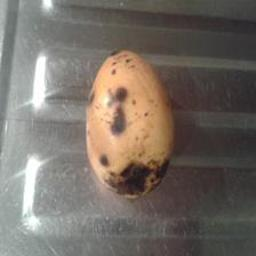Mango Rotten: (78, 53, 182, 205)
